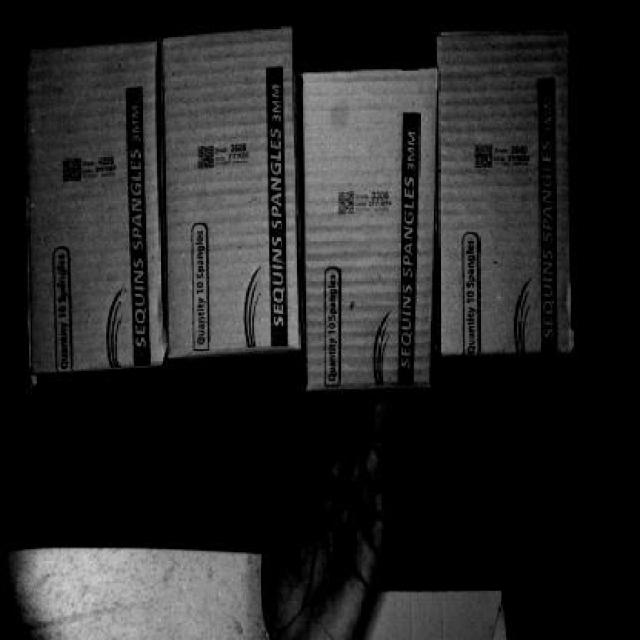cardboxes: (25, 43, 170, 363), (164, 38, 299, 351), (304, 72, 434, 397), (442, 37, 572, 354)
